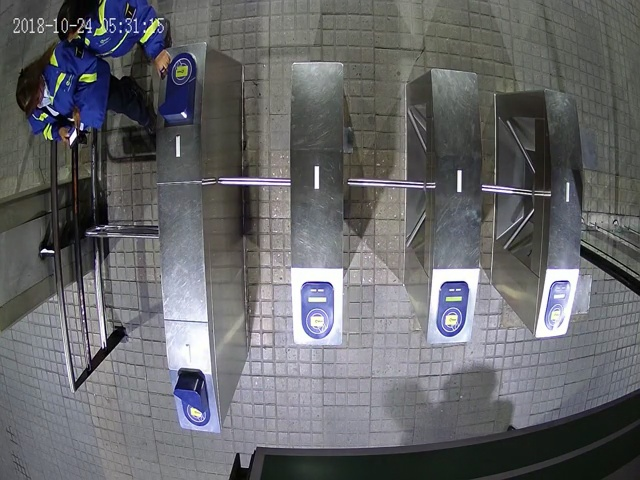Chaleco_azul: (16, 42, 157, 145), (57, 1, 173, 80)
